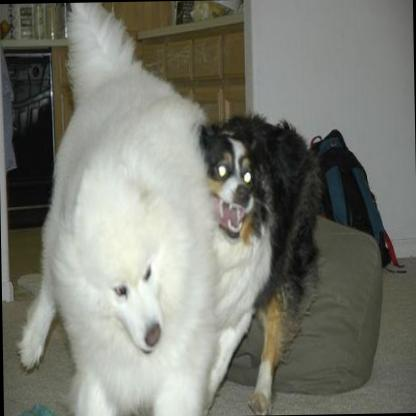Samoyed: (8, 4, 219, 414)
